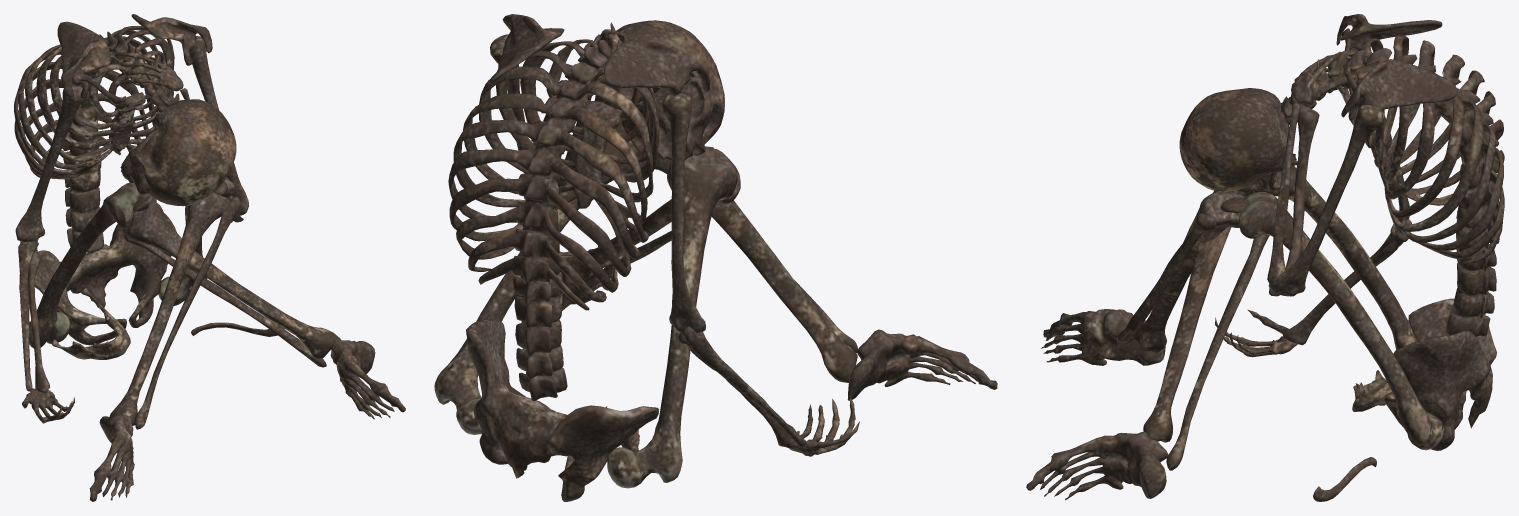
Rendered from SM_Skeleton_06.glb.
The picture shows the model from 3 angles, left to right: view 1: azimuth 30°, elevation 25°; view 2: azimuth 150°, elevation 25°; view 3: azimuth 270°, elevation 25°; orthographic projection. The views are drawn at different scales.
Visible parts, largest first — view 1: SM_Skeleton_06; view 2: SM_Skeleton_06; view 3: SM_Skeleton_06.
Boxes of the visible parts, left/top/right/bottom form: SM_Skeleton_06: left=14, top=14, right=405, bottom=501; SM_Skeleton_06: left=434, top=14, right=997, bottom=501; SM_Skeleton_06: left=1026, top=14, right=1504, bottom=501.
Bounding box in the file's own units: 0.7777 × 0.7632 × 0.8206.
Materials: 1 (1 with a texture image).
